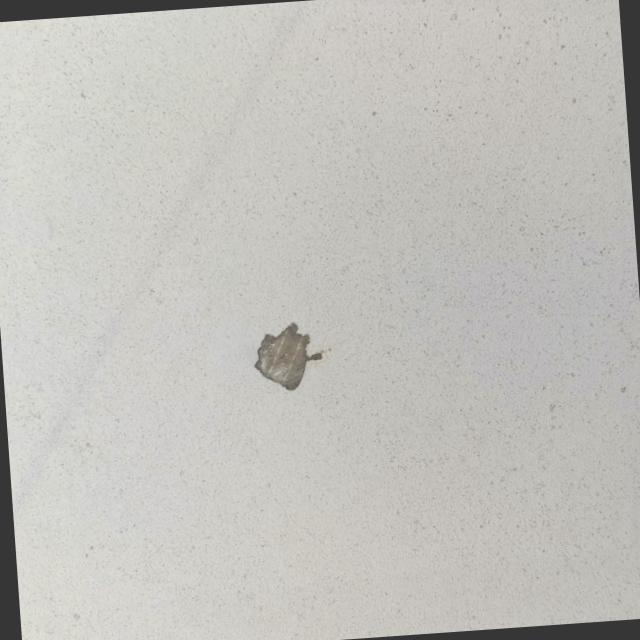surface_peeling: (248, 318, 324, 391)
